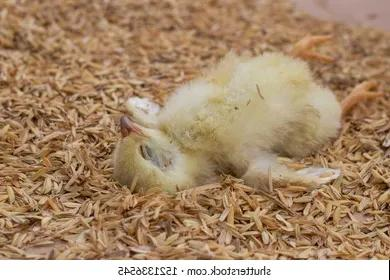AbNormal: (102, 53, 372, 193)
